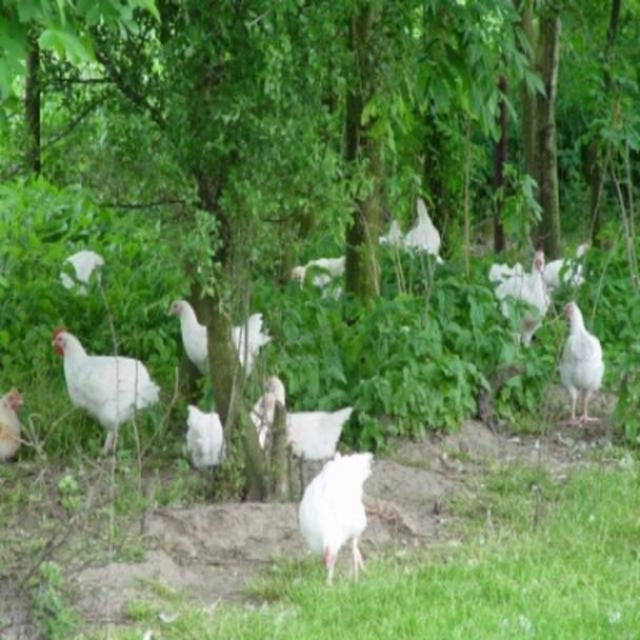Chicken: (52, 322, 159, 452), (291, 458, 381, 594), (167, 301, 271, 380), (264, 375, 352, 461), (559, 301, 607, 424), (493, 250, 552, 348), (400, 194, 443, 265), (59, 248, 104, 295), (0, 384, 24, 461)
